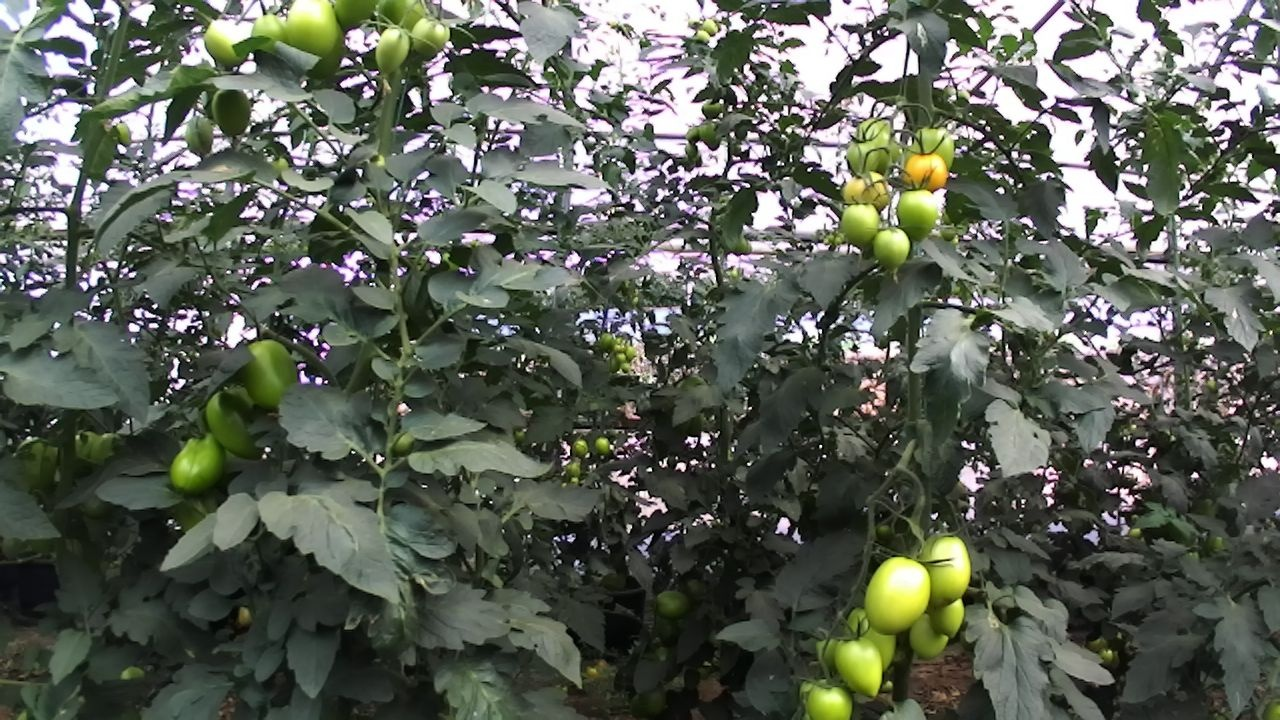tomato: (853, 541, 945, 647), (230, 326, 323, 428), (197, 371, 291, 469), (275, 0, 364, 91), (906, 511, 983, 616), (159, 425, 246, 512), (184, 9, 273, 83), (824, 620, 897, 707), (244, 0, 305, 91), (198, 78, 267, 145), (848, 110, 910, 183), (901, 601, 967, 667), (888, 181, 946, 253), (905, 111, 962, 181), (865, 217, 920, 288), (920, 580, 977, 647), (798, 668, 869, 720), (897, 147, 959, 206), (833, 163, 895, 220), (833, 197, 890, 254), (368, 22, 419, 83), (174, 103, 223, 164), (645, 579, 706, 628), (406, 8, 456, 65), (840, 130, 884, 179), (693, 118, 730, 158), (105, 116, 142, 153), (696, 95, 728, 123), (589, 433, 620, 461), (698, 13, 722, 39), (567, 436, 593, 460), (560, 457, 587, 479), (597, 329, 617, 352), (693, 25, 713, 47), (612, 350, 629, 366), (623, 343, 638, 361), (619, 358, 634, 375)
